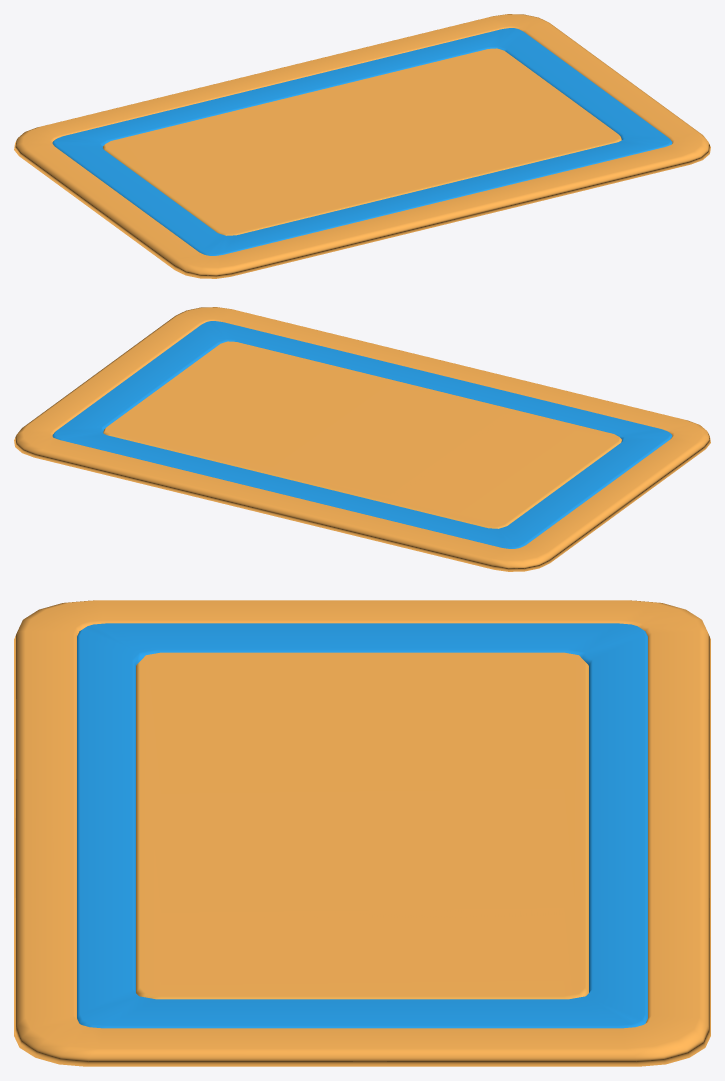
The model's file is Carpet_04.glb.
The picture shows the model from 3 angles, top to bottom: view 1: azimuth 30°, elevation 25°; view 2: azimuth 150°, elevation 25°; view 3: azimuth 270°, elevation 25°; orthographic projection. The views are drawn at different scales.
Visible parts, largest first — view 1: Carpet_04; view 2: Carpet_04; view 3: Carpet_04.
Boxes of the visible parts, x1,y1,x2,y2 form: Carpet_04: [14, 14, 710, 278]; Carpet_04: [14, 307, 710, 571]; Carpet_04: [14, 600, 710, 1066].
Size of the model in its own units: 1.71 by 0.0232 by 1.1.
1 material, 1 textured.
